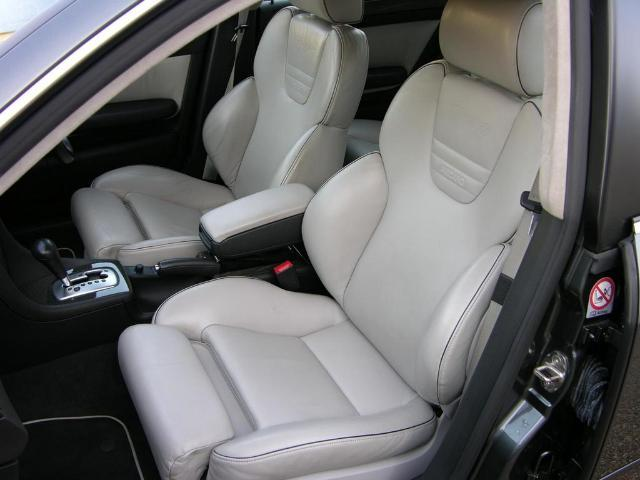Seatbelt: (465, 163, 541, 378), (203, 6, 249, 180)
